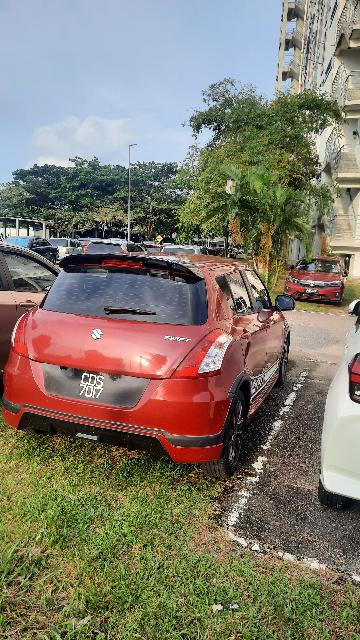License_Plate: (41, 365, 154, 412), (302, 287, 324, 298)
car: (6, 251, 296, 490), (281, 247, 348, 311)
